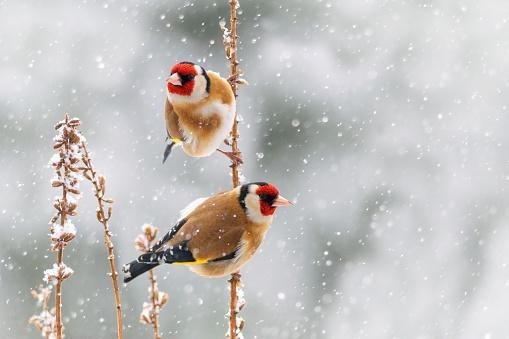bird: (124, 182, 291, 282), (163, 62, 241, 161)
